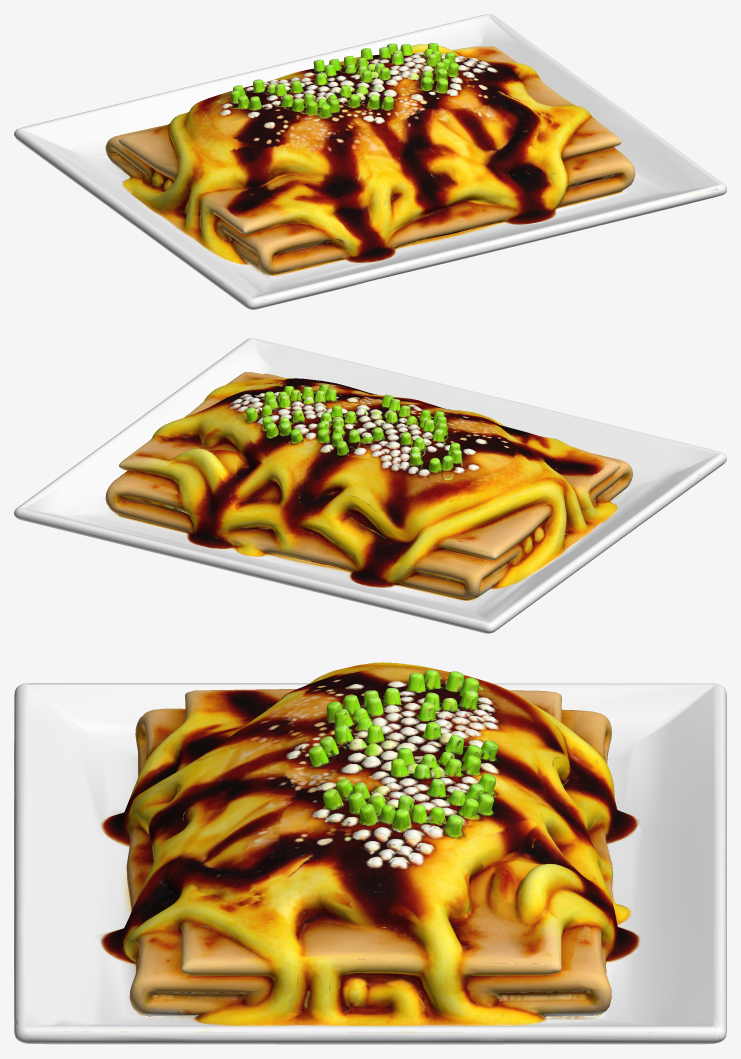
The model's file is plated-cold.glb.
3 views of the same model, one above another, from view 1: azimuth 30°, elevation 25°; view 2: azimuth 150°, elevation 25°; view 3: azimuth 270°, elevation 25° (orthographic). The views are drawn at different scales.
Parts seen in each view (by area): view 1: mesh; view 2: mesh; view 3: mesh.
Part boxes in pixels (x1,y1,x2,y2): mesh: [14, 14, 726, 309]; mesh: [14, 338, 726, 633]; mesh: [14, 662, 726, 1044].
Bounding box in the file's own units: 2 × 0.4237 × 1.72.
1 material, 1 textured.
